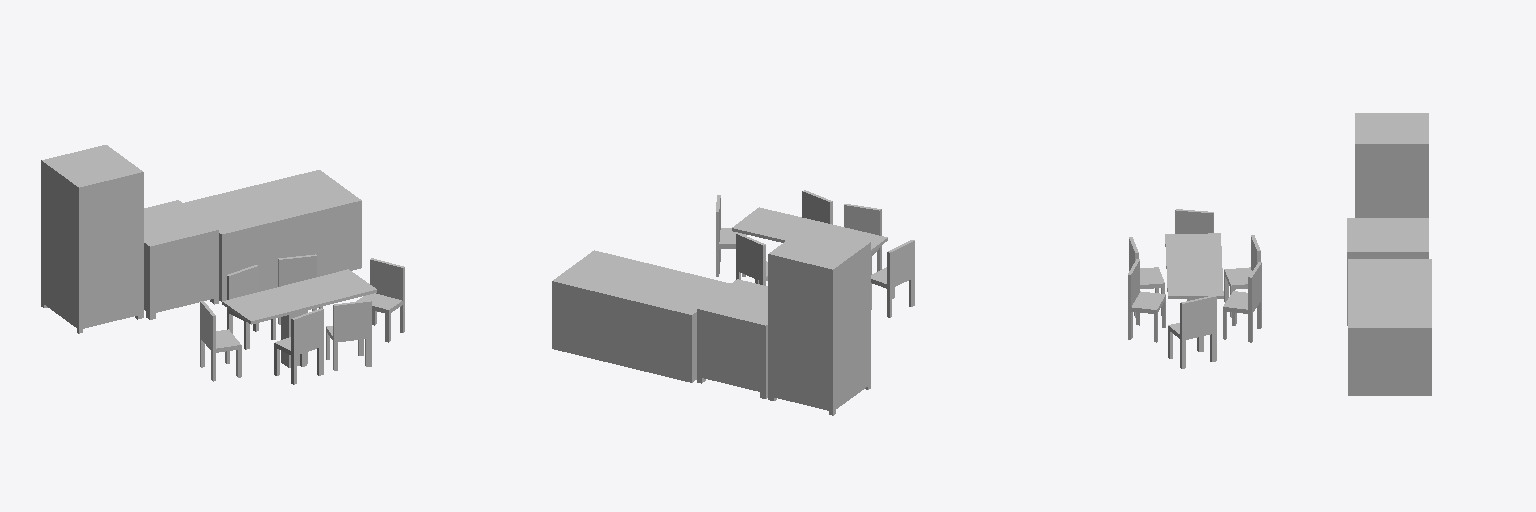
Rendered from basickitchen.obj.
The picture shows the model from 3 angles: view 1: azimuth 30°, elevation 25°; view 2: azimuth 150°, elevation 25°; view 3: azimuth 270°, elevation 25°; orthographic projection.
Visible parts, largest first — view 1: Cube_Cube.001; view 2: Cube_Cube.001; view 3: Cube_Cube.001.
Part boxes in pixels (x1,y1,x2,y2): Cube_Cube.001: (41, 145, 404, 384); Cube_Cube.001: (552, 190, 914, 415); Cube_Cube.001: (1128, 113, 1431, 395).
Size of the model in its own units: 8.63 by 4.43 by 8.14.